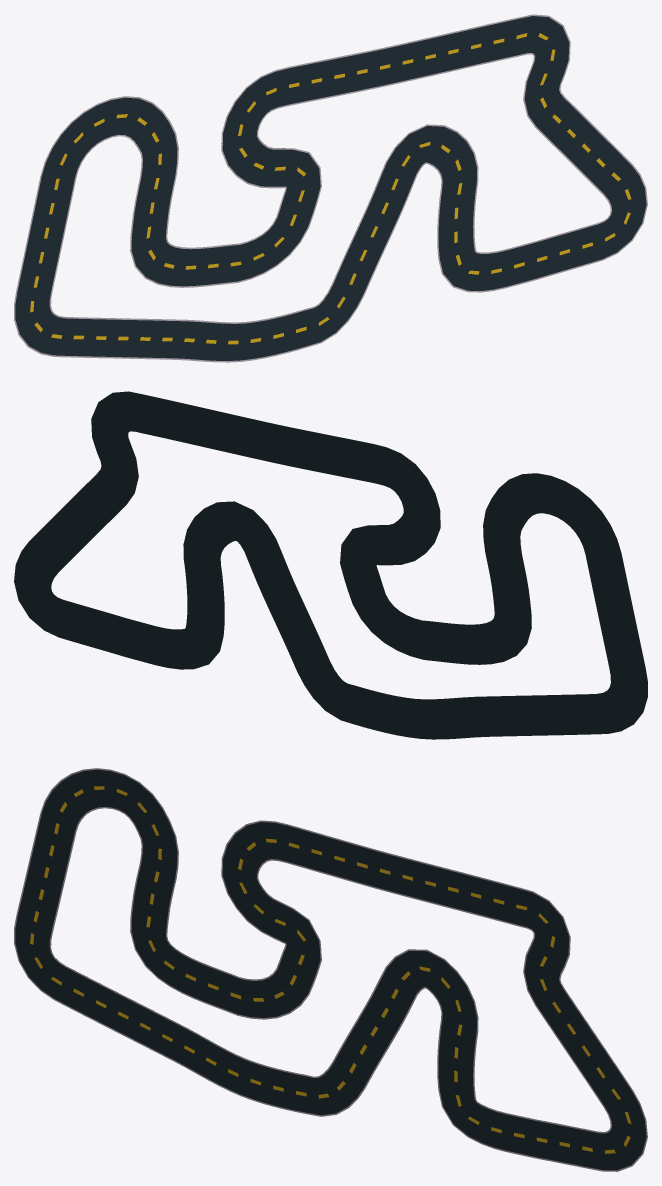
File: track.obj
The picture shows the model from 3 angles, top to bottom: view 1: azimuth 30°, elevation 25°; view 2: azimuth 150°, elevation 25°; view 3: azimuth 330°, elevation 25°; orthographic projection.
Size of the model in its own units: 18.1 by 8.12 by 0.002.
